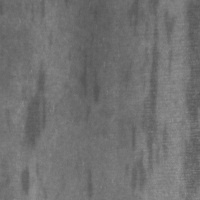inclusion: (142, 17, 171, 178), (176, 3, 199, 199), (22, 50, 52, 150), (75, 39, 104, 128), (121, 120, 148, 197), (158, 4, 182, 80), (77, 162, 98, 199), (15, 161, 35, 199)
